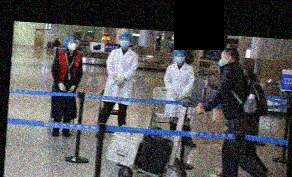with_mask: (119, 36, 130, 48), (217, 53, 226, 67), (67, 39, 77, 50), (175, 53, 185, 64)
